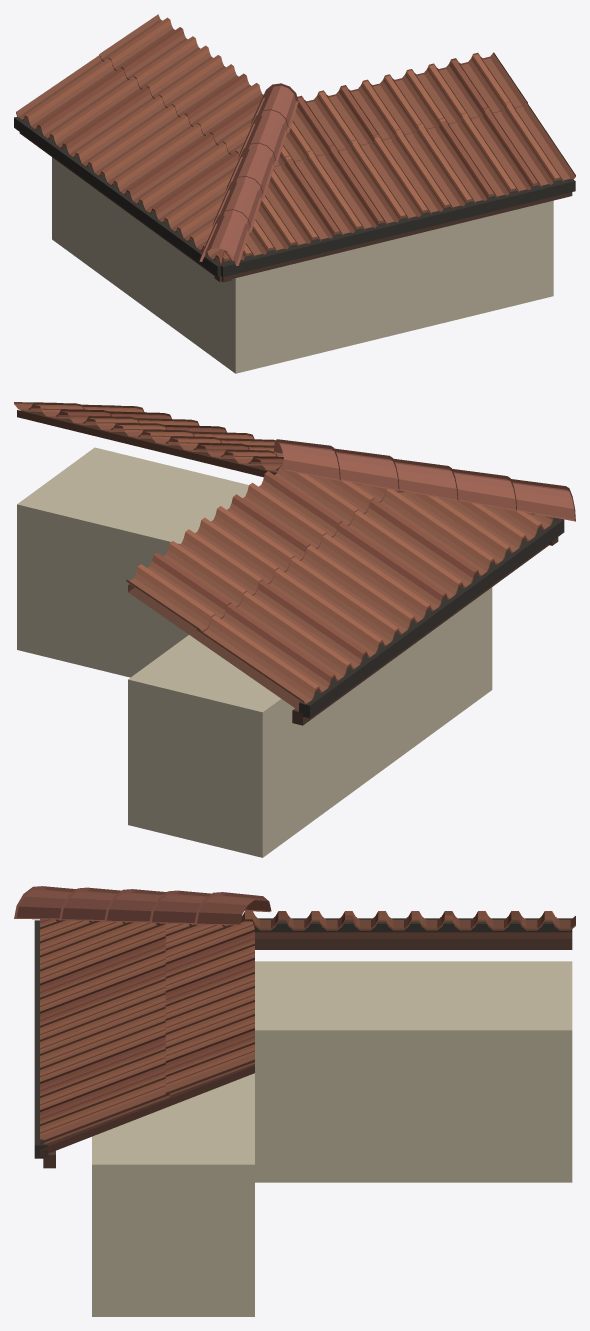
Rendered from xuhui-kangping-1-hipped-tile-eaves-lod.glb.
3 views of the same model, one above another, from view 1: azimuth 30°, elevation 25°; view 2: azimuth 150°, elevation 25°; view 3: azimuth 270°, elevation 25° (orthographic). The views are drawn at different scales.
Visible parts, largest first — view 1: 康平路1号花园住宅街角红瓦檐; view 2: 康平路1号花园住宅街角红瓦檐; view 3: 康平路1号花园住宅街角红瓦檐.
Part boxes in pixels (x1,y1,x2,y2): 康平路1号花园住宅街角红瓦檐: (14,14,575,373); 康平路1号花园住宅街角红瓦檐: (14,402,575,857); 康平路1号花园住宅街角红瓦檐: (14,886,575,1316).
Bounding box in the file's own units: 3.24 × 1.82 × 3.24.
